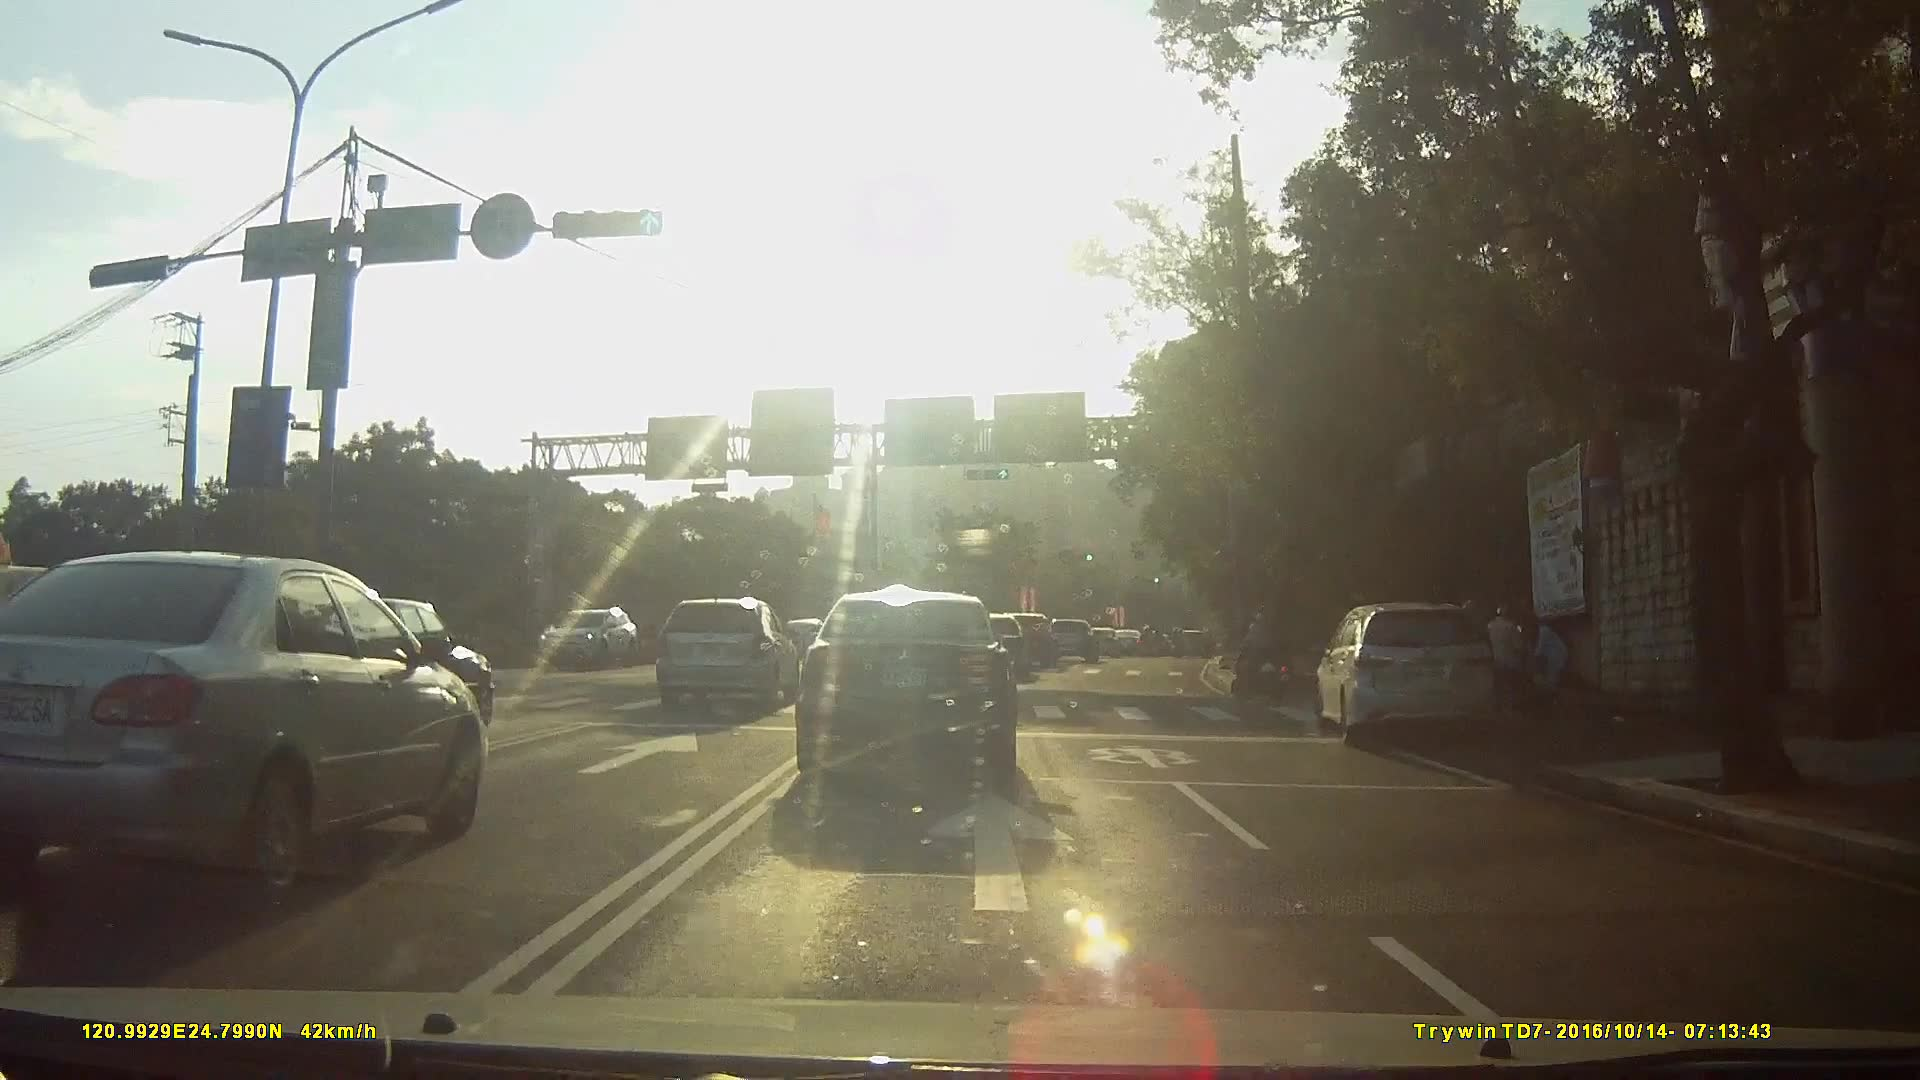pedestrian: (1492, 605, 1521, 718), (1534, 625, 1570, 702)
rider: (1230, 612, 1291, 699)
vehicle: (0, 549, 493, 905), (795, 591, 1038, 811), (277, 592, 504, 741), (1307, 600, 1509, 756), (656, 597, 804, 717), (531, 602, 645, 673), (963, 613, 1037, 683), (1005, 610, 1067, 668), (1052, 618, 1108, 664), (1087, 625, 1126, 657), (1119, 629, 1149, 657)
